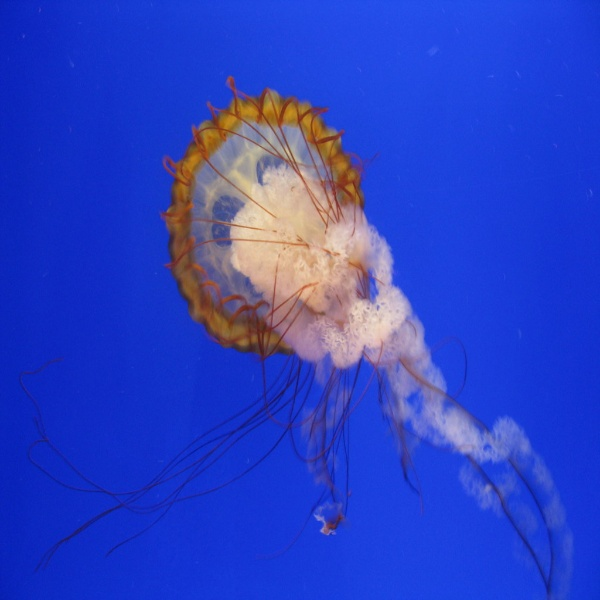Jellyfish: (154, 68, 382, 436)
